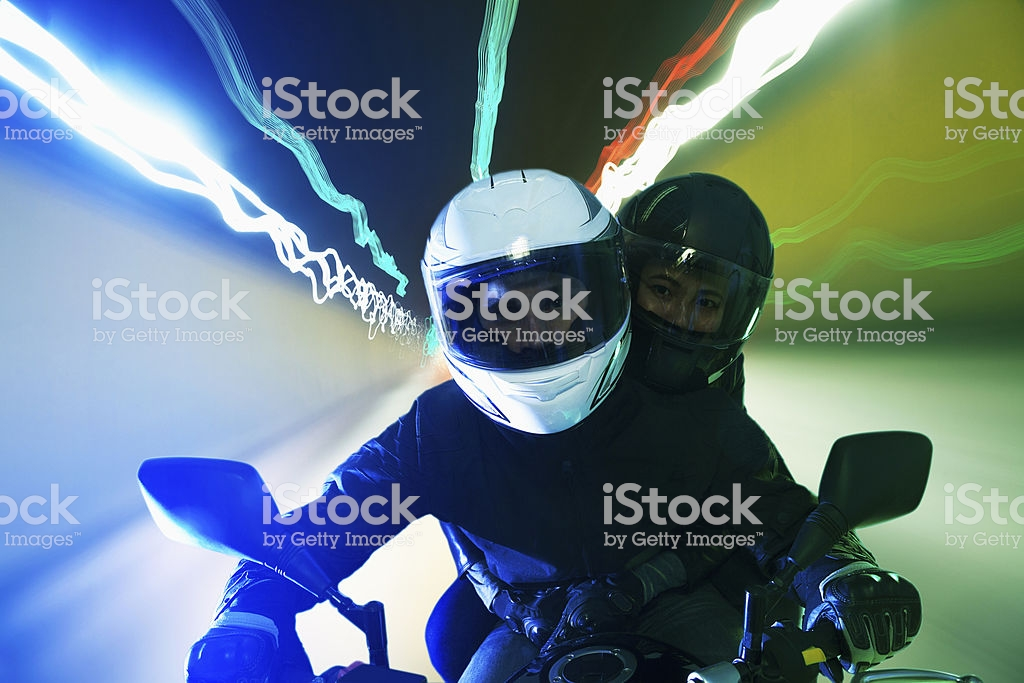helmet: (422, 164, 633, 413), (620, 165, 772, 374)
